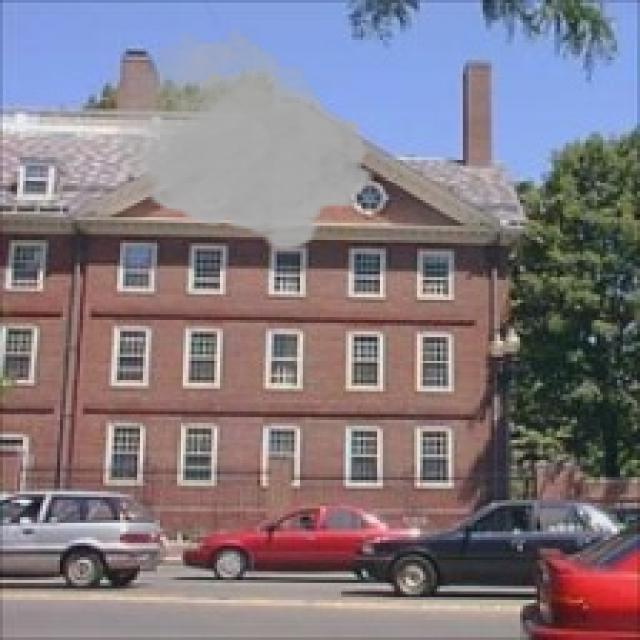Smoke: (117, 22, 377, 252)
